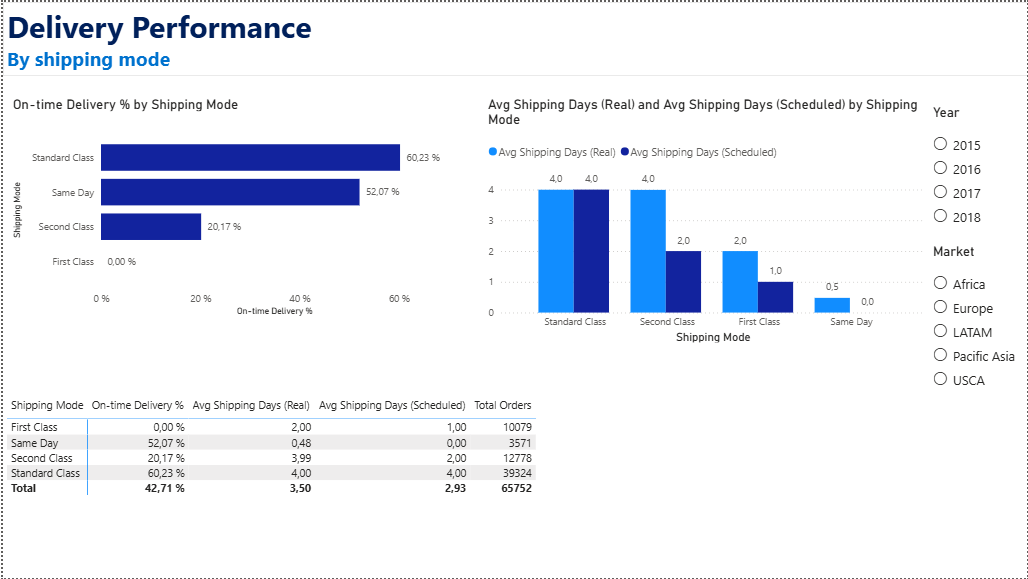

Layout of this report page (visuals, bound fields, positions):
{"tool":"powerbi","page":{"name":"Delivery Performance","canvas":[1280,720],"ordinal":1},"visuals":[{"type":"clusteredBarChart","fields":{"Category":["Facts_Order.Shipping Mode"],"Y":["Facts_Order.On-time Delivery %"]},"box":[8.1,117.3,568.4,280.2],"z":0},{"type":"clusteredColumnChart","fields":{"Category":["Facts_Order.Shipping Mode"],"Y":["Facts_Order.Avg Shipping Days (Real)","Facts_Order.Avg Shipping Days (Scheduled)"]},"box":[601.8,117.3,556.3,313.4],"z":1000},{"type":"textbox","box":[0,0,1800,92.2],"z":2000},{"type":"listSlicer","fields":{"Values":["Dim_Date.Year"]},"box":[1158,128,122,234.8],"z":3000},{"type":"listSlicer","fields":{"Values":["Facts_Order.Market"]},"box":[1157.9,300.9,122,280.2],"z":4000},{"type":"pivotTable","fields":{"Rows":["Facts_Order.Shipping Mode"],"Values":["Facts_Order.On-time Delivery %","Facts_Order.Avg Shipping Days (Real)","Facts_Order.Avg Shipping Days (Scheduled)","Facts_Order.Total Orders"]},"box":[0,488.4,734.4,231.1],"z":5000}]}

Visuals, with their boxes in screenshot pixels (x1, y1, x2, y2), scaled from the page's 1280x720 canvas onto the 1028x579 screenshot:
clusteredBarChart - Facts_Order.Shipping Mode x Facts_Order.On-time Delivery %: pyautogui.locateOnScreen(7, 94, 463, 320)
clusteredColumnChart - Facts_Order.Shipping Mode x Facts_Order.Avg Shipping Days (Real): pyautogui.locateOnScreen(483, 94, 930, 346)
textbox: pyautogui.locateOnScreen(0, 0, 1027, 74)
listSlicer - Dim_Date.Year: pyautogui.locateOnScreen(930, 103, 1027, 292)
listSlicer - Facts_Order.Market: pyautogui.locateOnScreen(930, 242, 1027, 467)
pivotTable - Facts_Order.Shipping Mode x Facts_Order.On-time Delivery %: pyautogui.locateOnScreen(0, 393, 590, 578)
